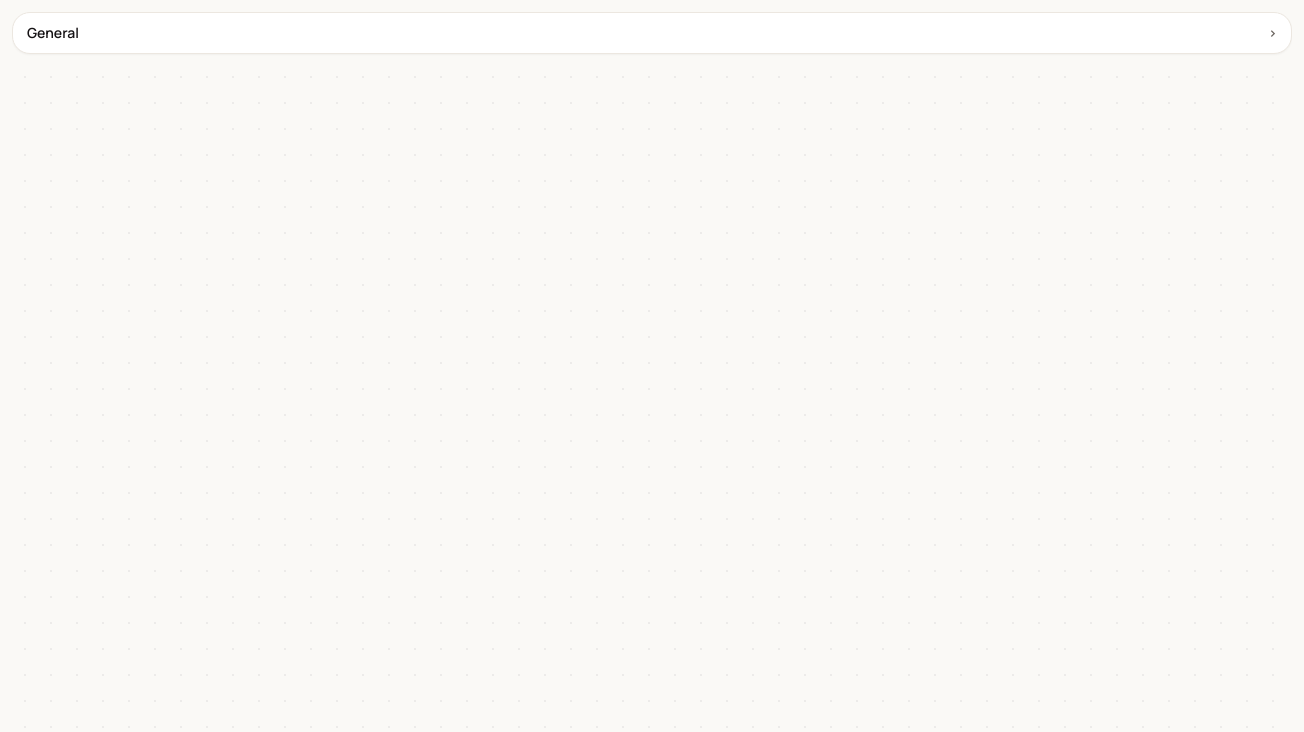
Test: Section › toggles open/closed on repeated header clicks, keeping content mounted (not unmounted) so a close animation is possible
Click the button "General ›": point(53, 32) [13, 13, 1291, 53]
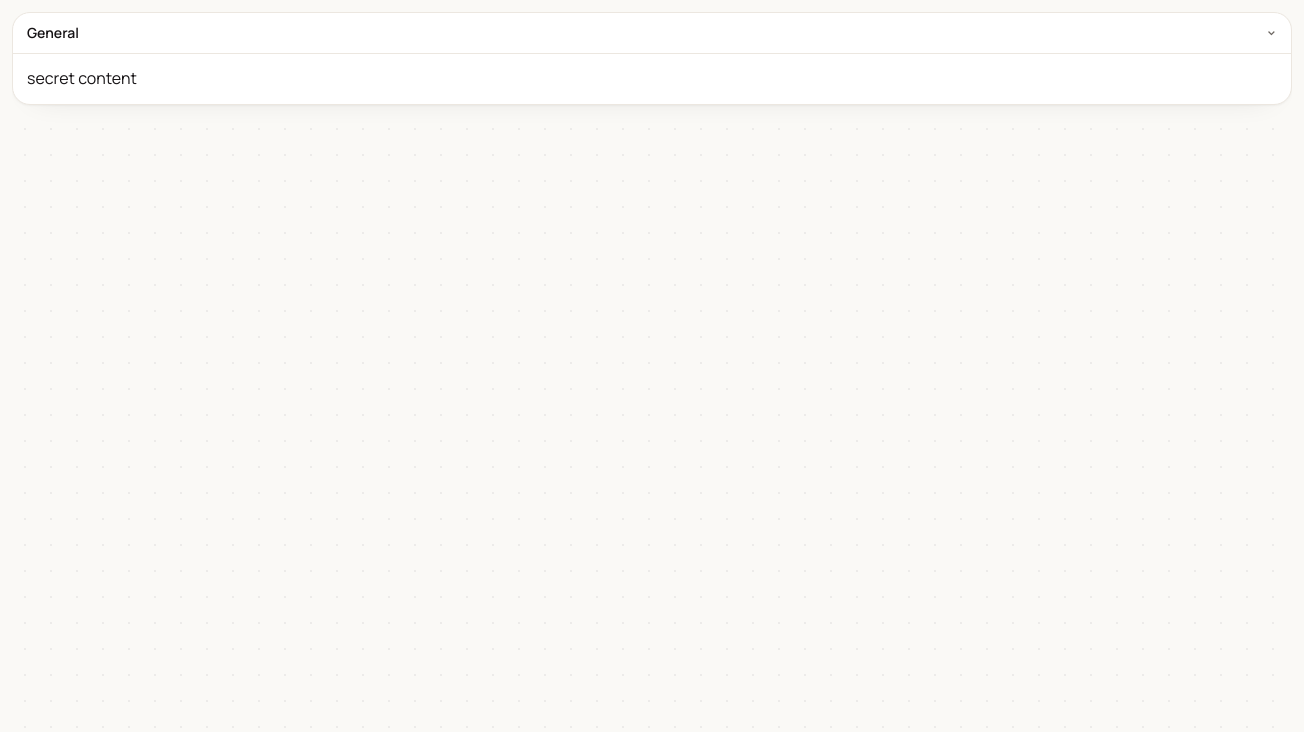
Check: the button "General ›" is expanded
Click the button "General ›": point(53, 32) [13, 13, 1291, 53]
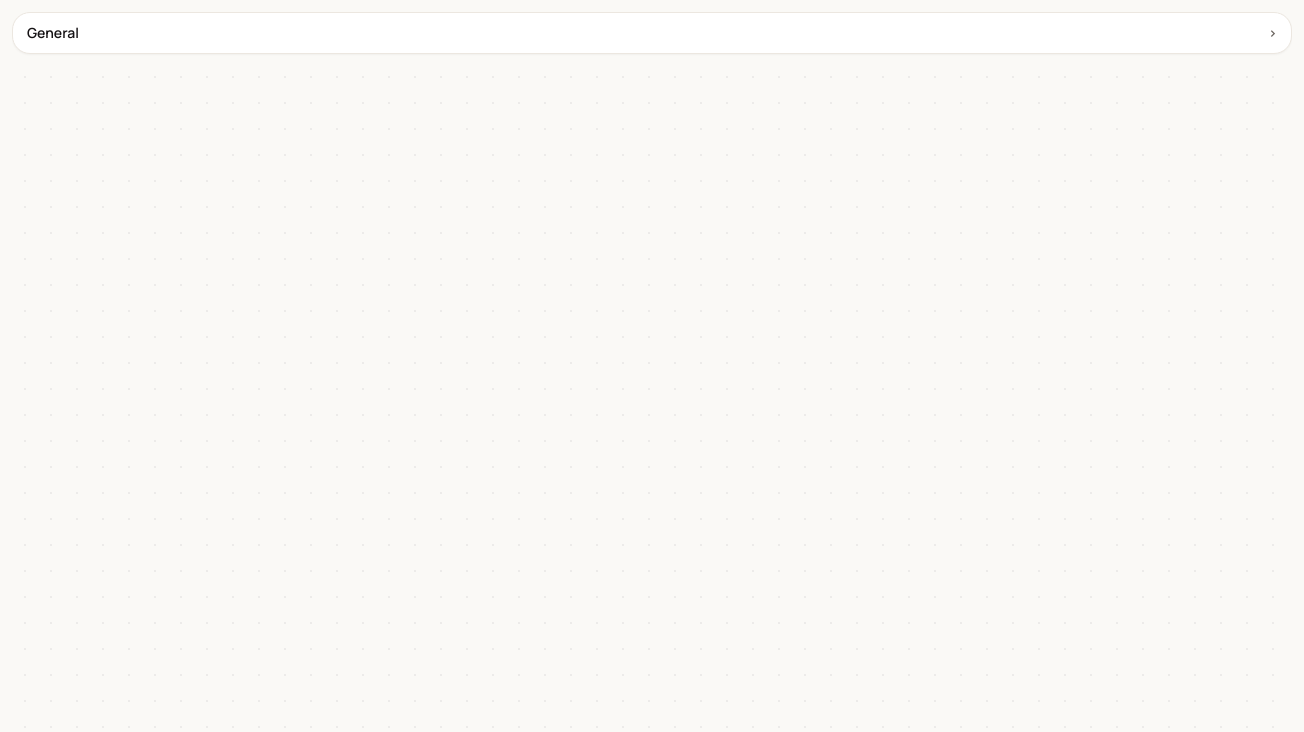
Check: the button "General ›" is collapsed, box [13, 13, 1291, 53]
